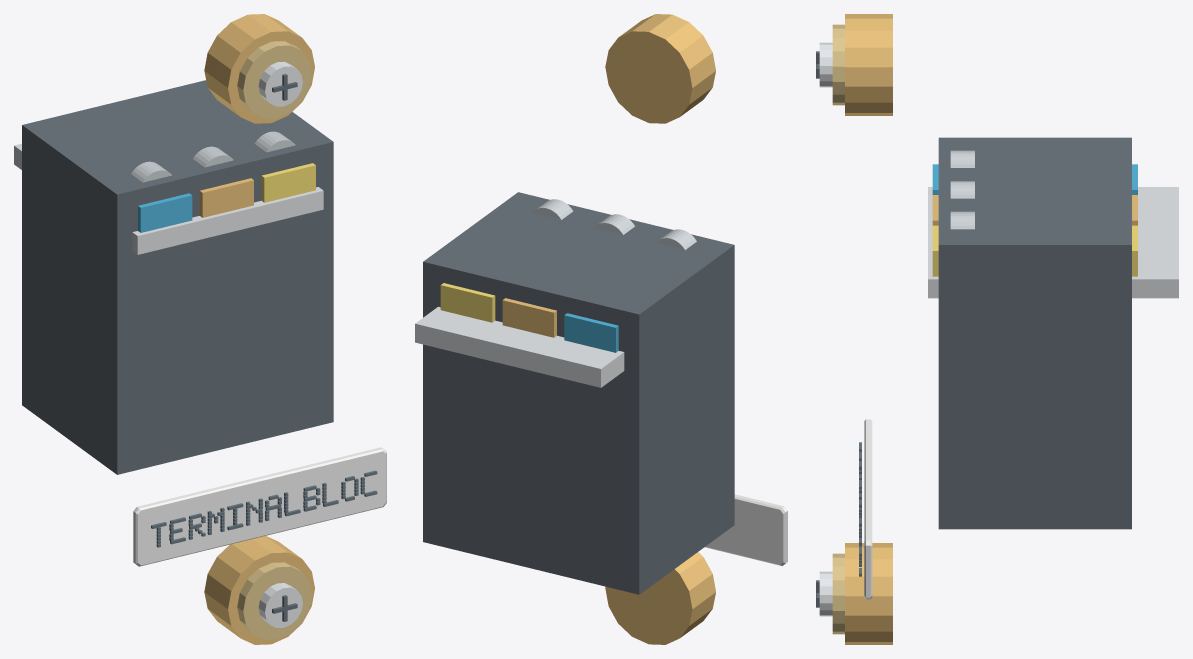
File: terminalBlock.glb
3 renders of one model, left to right at view 1: azimuth 30°, elevation 25°; view 2: azimuth 150°, elevation 25°; view 3: azimuth 270°, elevation 25°, orthographic.
Parts seen in each view (by area): view 1: terminalBlock-preview; view 2: terminalBlock-preview; view 3: terminalBlock-preview.
Part boxes in pixels (box(x1,y1,x2,y2)): terminalBlock-preview: box(14, 14, 386, 644); terminalBlock-preview: box(415, 14, 787, 644); terminalBlock-preview: box(816, 14, 1178, 644).
Bounding box in the file's own units: 0.9042 × 2.11 × 1.11.
